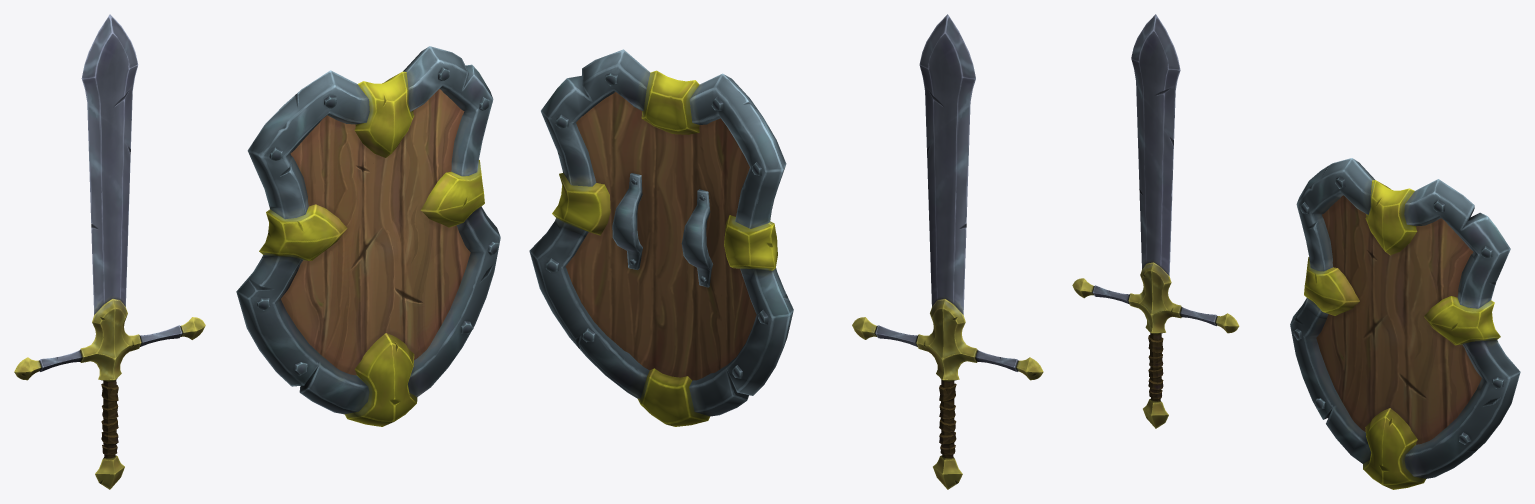
The model's file is espada.glb.
3 views of the same model, side by side, from view 1: azimuth 30°, elevation 25°; view 2: azimuth 150°, elevation 25°; view 3: azimuth 330°, elevation 25° (orthographic). The views are drawn at different scales.
Parts seen in each view (by area): view 1: shield, sword; view 2: shield, sword; view 3: shield, sword.
Boxes of the visible parts, <box> form: shield: <box>236,46,500,426</box>; sword: <box>14,14,205,489</box>; shield: <box>529,49,793,426</box>; sword: <box>852,14,1043,489</box>; shield: <box>1290,158,1520,489</box>; sword: <box>1072,14,1239,428</box>.
Bounding box in the file's own units: 6.3 × 5.78 × 0.7222.
Materials: 2 (2 with a texture image).
